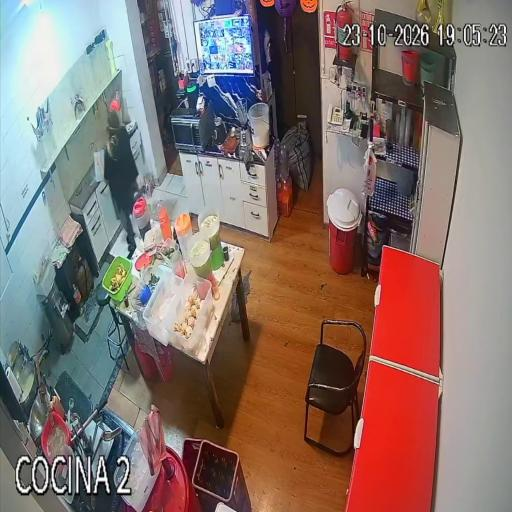Envase Llajua: (47, 395, 64, 417)
Jarra1: (133, 197, 150, 241)
Jarra2: (175, 213, 193, 259)
Microondas: (171, 104, 214, 151)
Persona3: (104, 110, 138, 250)
Taper2: (130, 272, 154, 312)
Taper3: (143, 272, 183, 345)
Taper4: (163, 274, 214, 359)
